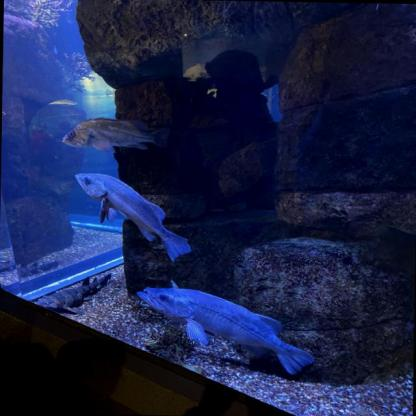fish: (135, 287, 314, 375), (74, 173, 192, 263), (62, 116, 171, 153), (34, 272, 111, 314)
